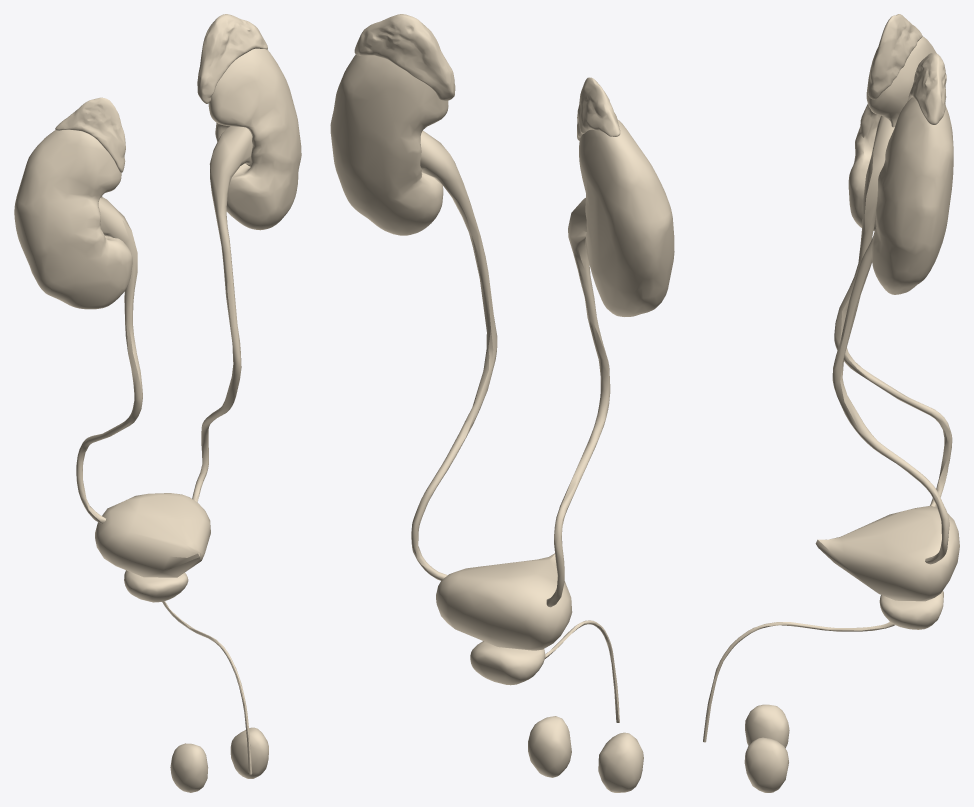
The model's file is urogenital.glb.
3 renders of one model, left to right at view 1: azimuth 30°, elevation 25°; view 2: azimuth 150°, elevation 25°; view 3: azimuth 270°, elevation 25°, orthographic. The views are drawn at different scales.
Parts seen in each view (by area): view 1: right_kidney, left_kidney, urinary_bladder, left_ureter, right_ureter, left_adrenal_gland, right_adrenal_gland, right_testis, left_testis, prostate, urethra; view 2: left_kidney, right_kidney, urinary_bladder, left_ureter, left_adrenal_gland, right_ureter, prostate, right_testis, left_testis, right_adrenal_gland, urethra; view 3: left_kidney, urinary_bladder, right_ureter, right_kidney, left_ureter, right_adrenal_gland, left_testis, left_adrenal_gland, prostate, right_testis, urethra.
Part boxes in pixels (x1,y1,x2,y2): right_kidney: (14, 129, 132, 309); left_kidney: (208, 48, 301, 230); urinary_bladder: (95, 493, 210, 577); left_ureter: (192, 126, 252, 502); right_ureter: (76, 197, 142, 523); left_adrenal_gland: (197, 14, 267, 103); right_adrenal_gland: (55, 97, 125, 172); right_testis: (170, 743, 208, 792); left_testis: (230, 727, 268, 778); prostate: (124, 570, 188, 602); urethra: (162, 601, 252, 774); left_kidney: (330, 54, 448, 235); right_kidney: (579, 120, 674, 316); urinary_bladder: (436, 553, 572, 650); left_ureter: (411, 130, 497, 580); left_adrenal_gland: (354, 14, 455, 100); right_ureter: (546, 198, 610, 607); prostate: (470, 641, 545, 685); right_testis: (598, 732, 643, 792); left_testis: (528, 716, 571, 777); right_adrenal_gland: (577, 77, 620, 140); urethra: (545, 620, 619, 722); left_kidney: (872, 97, 953, 294); urinary_bladder: (815, 505, 959, 601); right_ureter: (834, 115, 952, 507); right_kidney: (848, 36, 936, 230); left_ureter: (832, 236, 949, 564); right_adrenal_gland: (867, 14, 922, 99); left_testis: (744, 737, 788, 792); left_adrenal_gland: (907, 53, 946, 124); prostate: (879, 591, 943, 629); right_testis: (745, 704, 789, 748); urethra: (703, 622, 894, 742).
Size of the model in its own units: 192 by 450 by 137.
